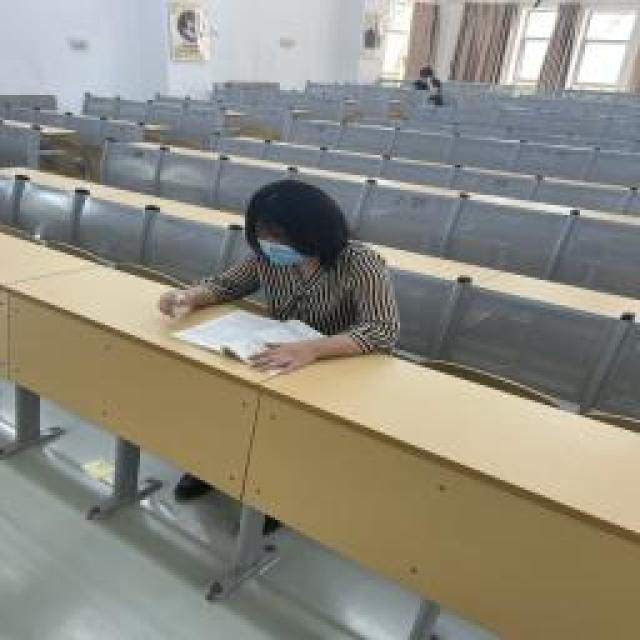study: (158, 180, 400, 375)
